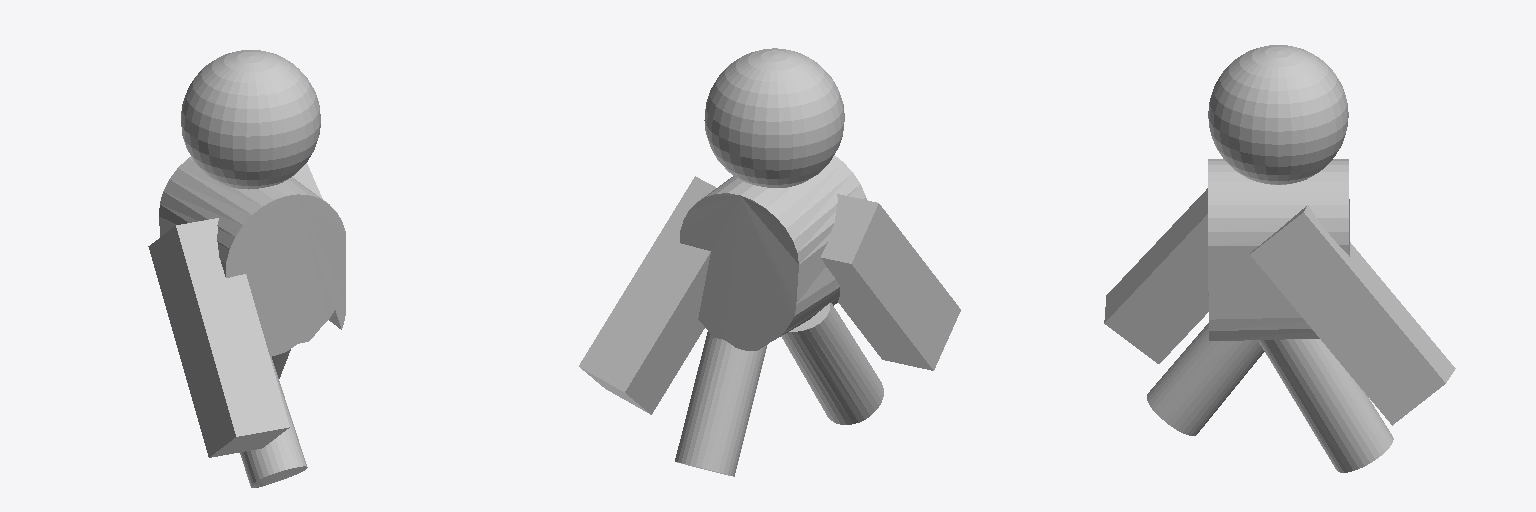
File: Figurine112.obj
3 views of the same model, side by side, from view 1: azimuth 30°, elevation 25°; view 2: azimuth 150°, elevation 25°; view 3: azimuth 270°, elevation 25° (orthographic).
Visible parts, largest first — view 1: Cylinder; view 2: Cylinder; view 3: Cylinder.
Part boxes in pixels (x1,y1,x2,y2): Cylinder: (148,50,345,487); Cylinder: (579,48,960,476); Cylinder: (1104,45,1455,472).
Bounding box in the file's own units: 3.49 × 6.33 × 5.